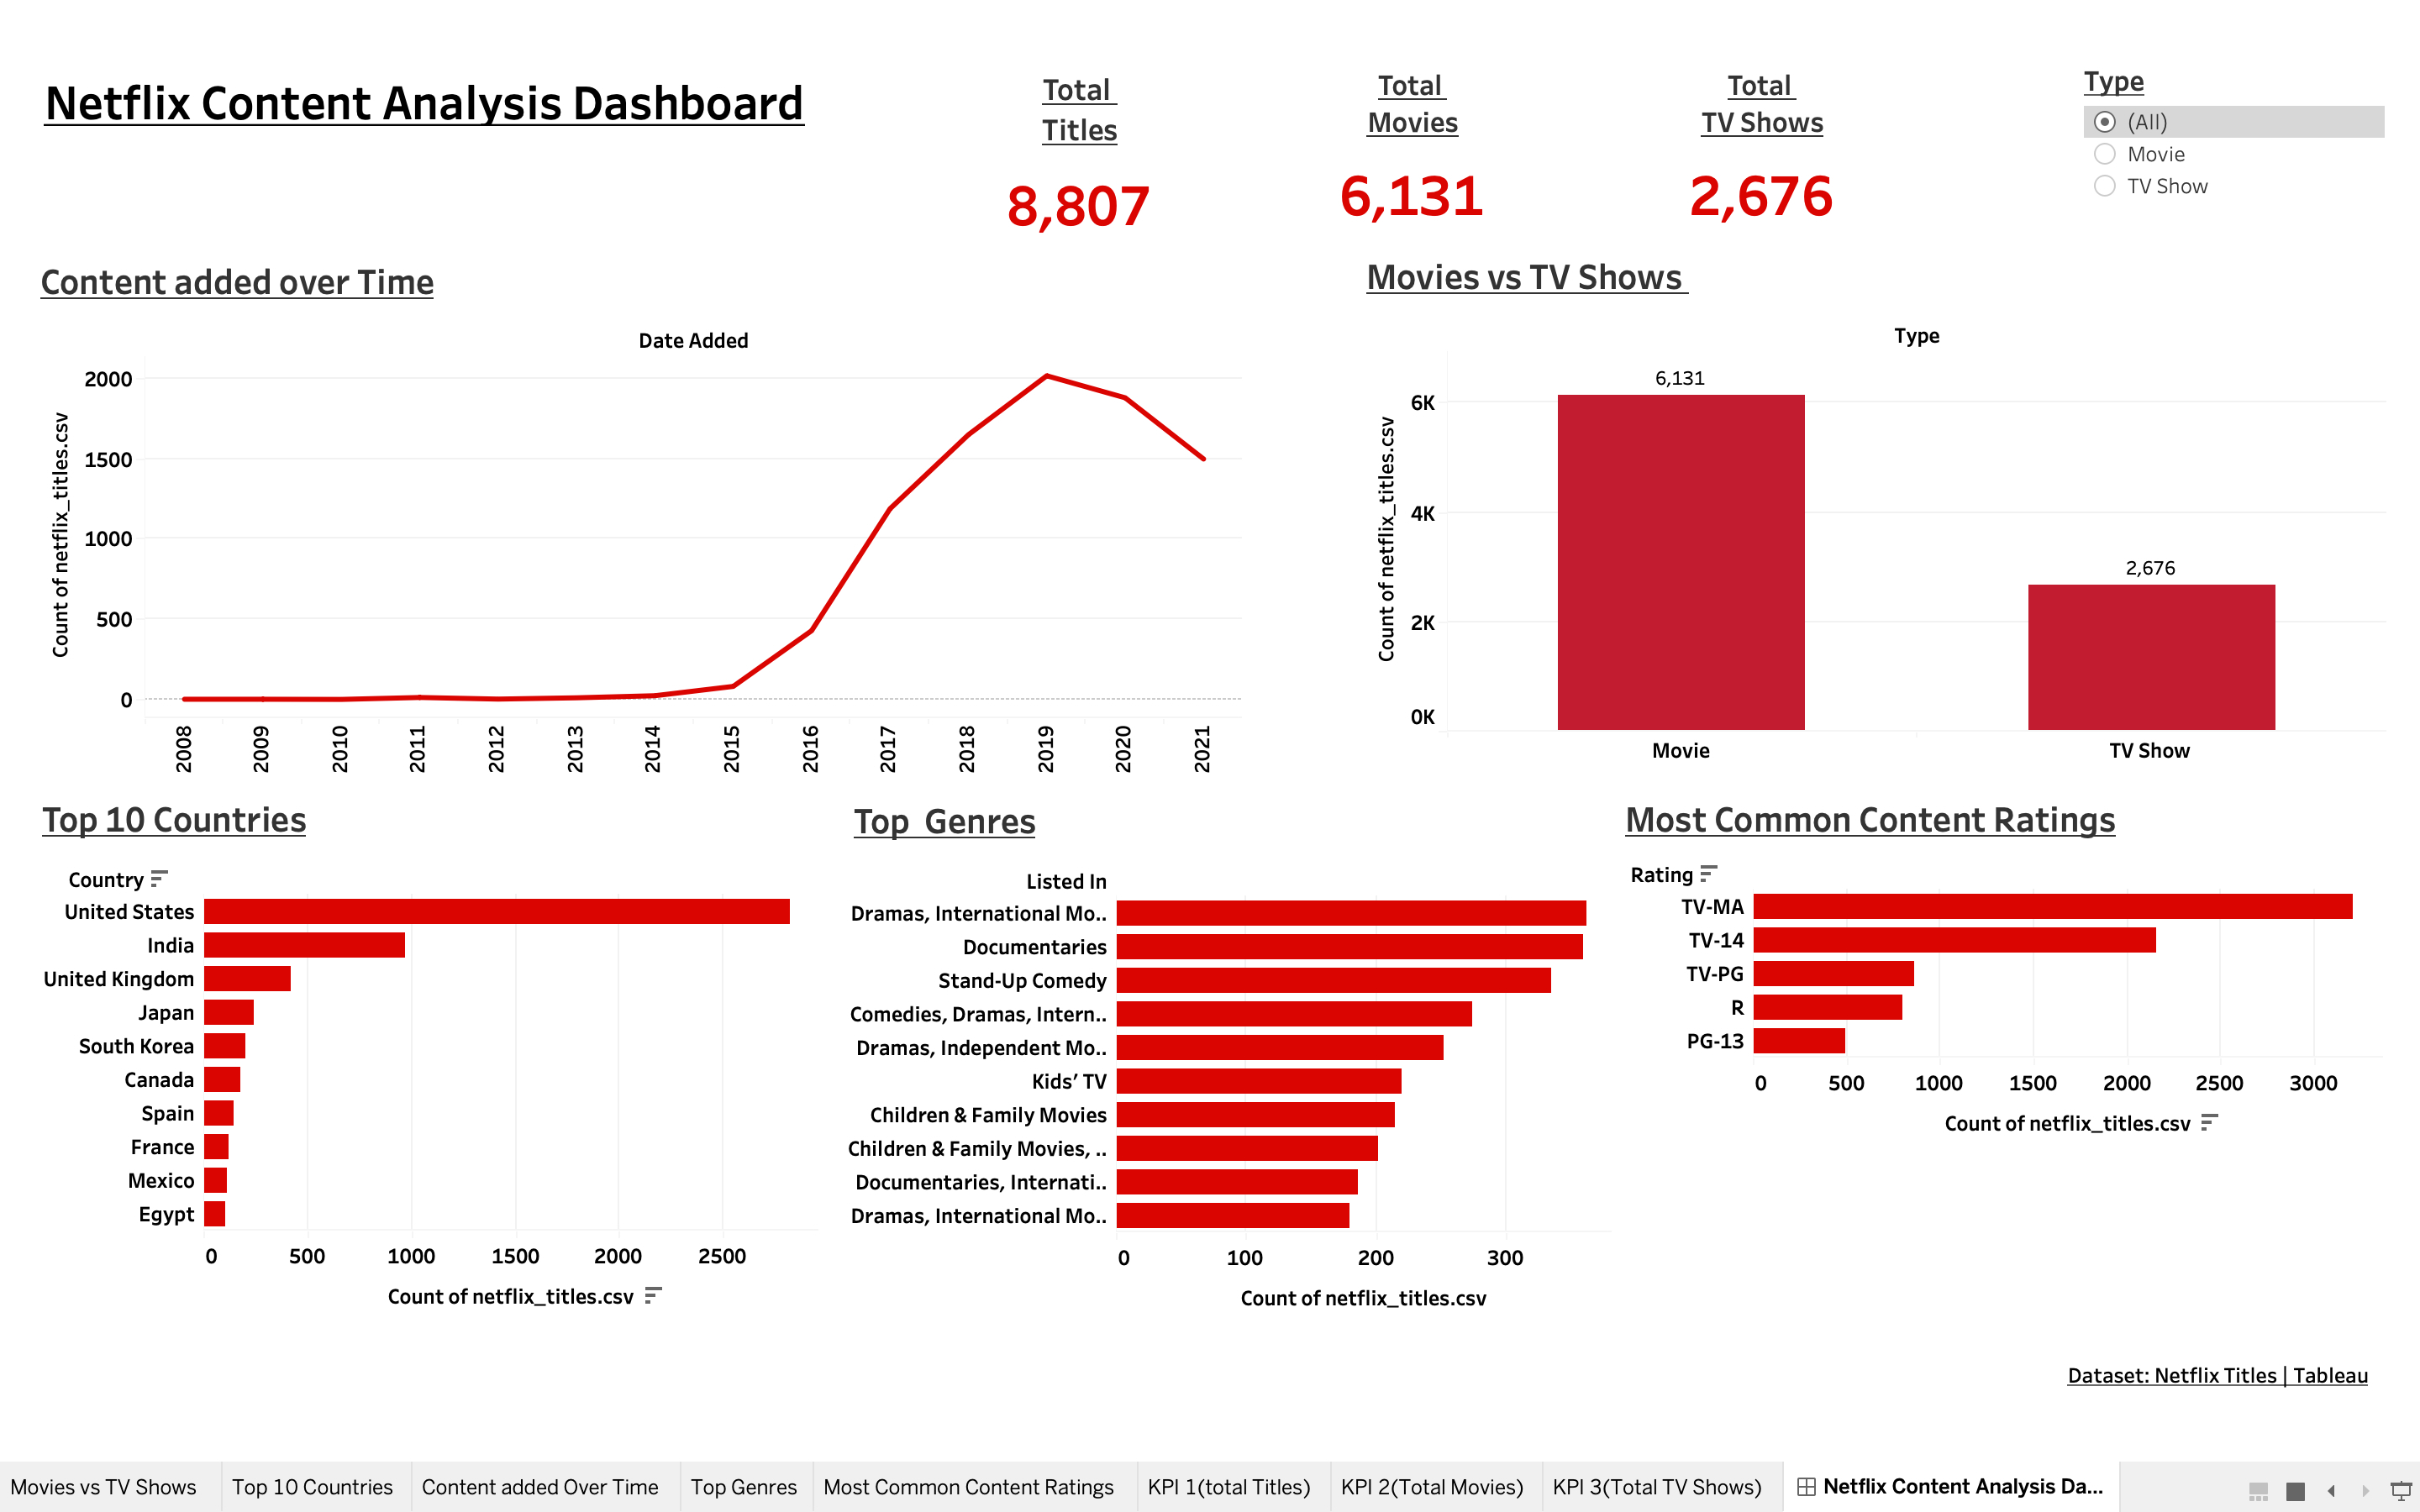

This screenshot's page, from the dashboard's own definition file:
{"tool":"tableau","page":{"name":"Dashboard 1","canvas":[1400,800],"ordinal":0},"visuals":[{"type":"worksheet","title":"KPI 2(Total Movies)","mark":"Automatic","box":[771,0,151,105]},{"type":"worksheet","title":"KPI 3(Total TV Shows)","mark":"Automatic","box":[979,0,156,103]},{"type":"worksheet","title":"KPI 1(total Titles)","mark":"Automatic","box":[573,2,135,107]},{"type":"filter","title":"Movies vs TV Shows ","param":"[federated.1cx2mvw1m9vkpo1c78mjh0fqcxna].[none:type:nk]","box":[1220,2,179,90]},{"type":"text","box":[4,10,470,30]},{"type":"worksheet","title":"Movies vs TV Shows ","mark":"Automatic","rows":["netflix_titles.csv_052EF0F638DE4F34B84DF8DB4DD67F4A"],"cols":["type"],"box":[789,111,611,310]},{"type":"worksheet","title":"Content added Over Time","mark":"Automatic","rows":["netflix_titles.csv_052EF0F638DE4F34B84DF8DB4DD67F4A"],"cols":["date_added"],"box":[0,114,719,318]},{"type":"worksheet","title":"Top 10 Countries","mark":"Automatic","rows":["country"],"cols":["netflix_titles.csv_052EF0F638DE4F34B84DF8DB4DD67F4A"],"box":[1,434,466,366]},{"type":"worksheet","title":"Most Common Content Ratings","mark":"Automatic","rows":["rating"],"cols":["netflix_titles.csv_052EF0F638DE4F34B84DF8DB4DD67F4A"],"box":[943,434,455,308]},{"type":"worksheet","title":"Top Genres","mark":"Automatic","rows":["listed_in"],"cols":["netflix_titles.csv_052EF0F638DE4F34B84DF8DB4DD67F4A"],"box":[484,435,455,367]},{"type":"text","box":[1208,768,190,30]}]}

Visuals, with their boxes in screenshot pixels (x1, y1, x2, y2):
"KPI 2(Total Movies)" worksheet: locate(1463, 208, 1712, 381)
"KPI 3(Total TV Shows)" worksheet: locate(1805, 208, 2061, 377)
"KPI 1(total Titles)" worksheet: locate(1138, 211, 1360, 387)
"Movies vs TV Shows " filter: locate(2202, 211, 2419, 360)
text: locate(202, 224, 975, 274)
"Movies vs TV Shows " worksheet: locate(1492, 391, 2419, 900)
"Content added Over Time" worksheet: locate(195, 396, 1377, 918)
"Top 10 Countries" worksheet: locate(197, 921, 963, 1511)
"Most Common Content Ratings" worksheet: locate(1746, 921, 2419, 1427)
"Top Genres" worksheet: locate(992, 923, 1739, 1511)
text: locate(2181, 1470, 2419, 1511)
